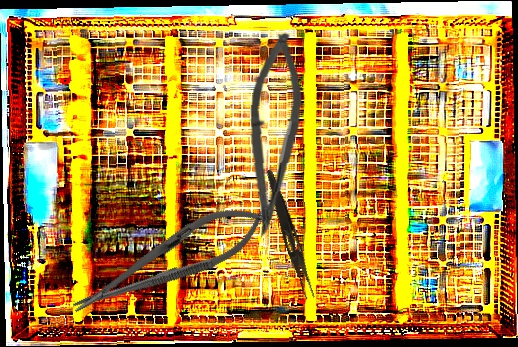Dressing Forceps: (259, 168, 320, 301)
Micro Scissor: (244, 30, 306, 239)
Needle Holder: (62, 190, 276, 331)
